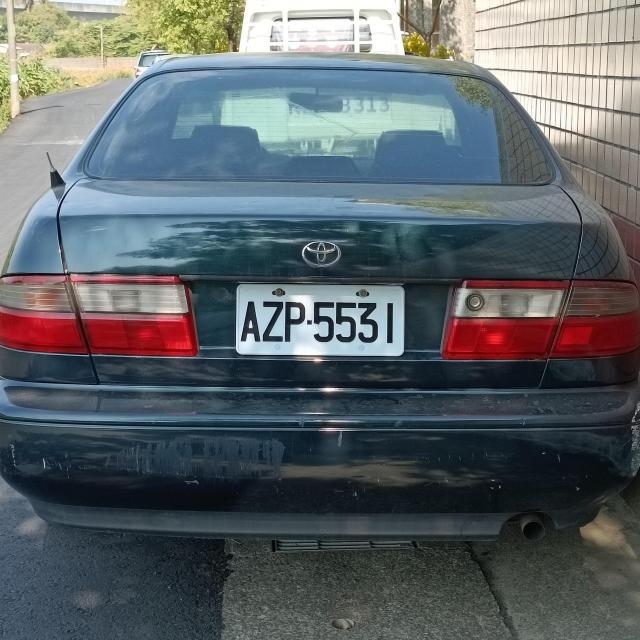W: (235, 284, 403, 357)
